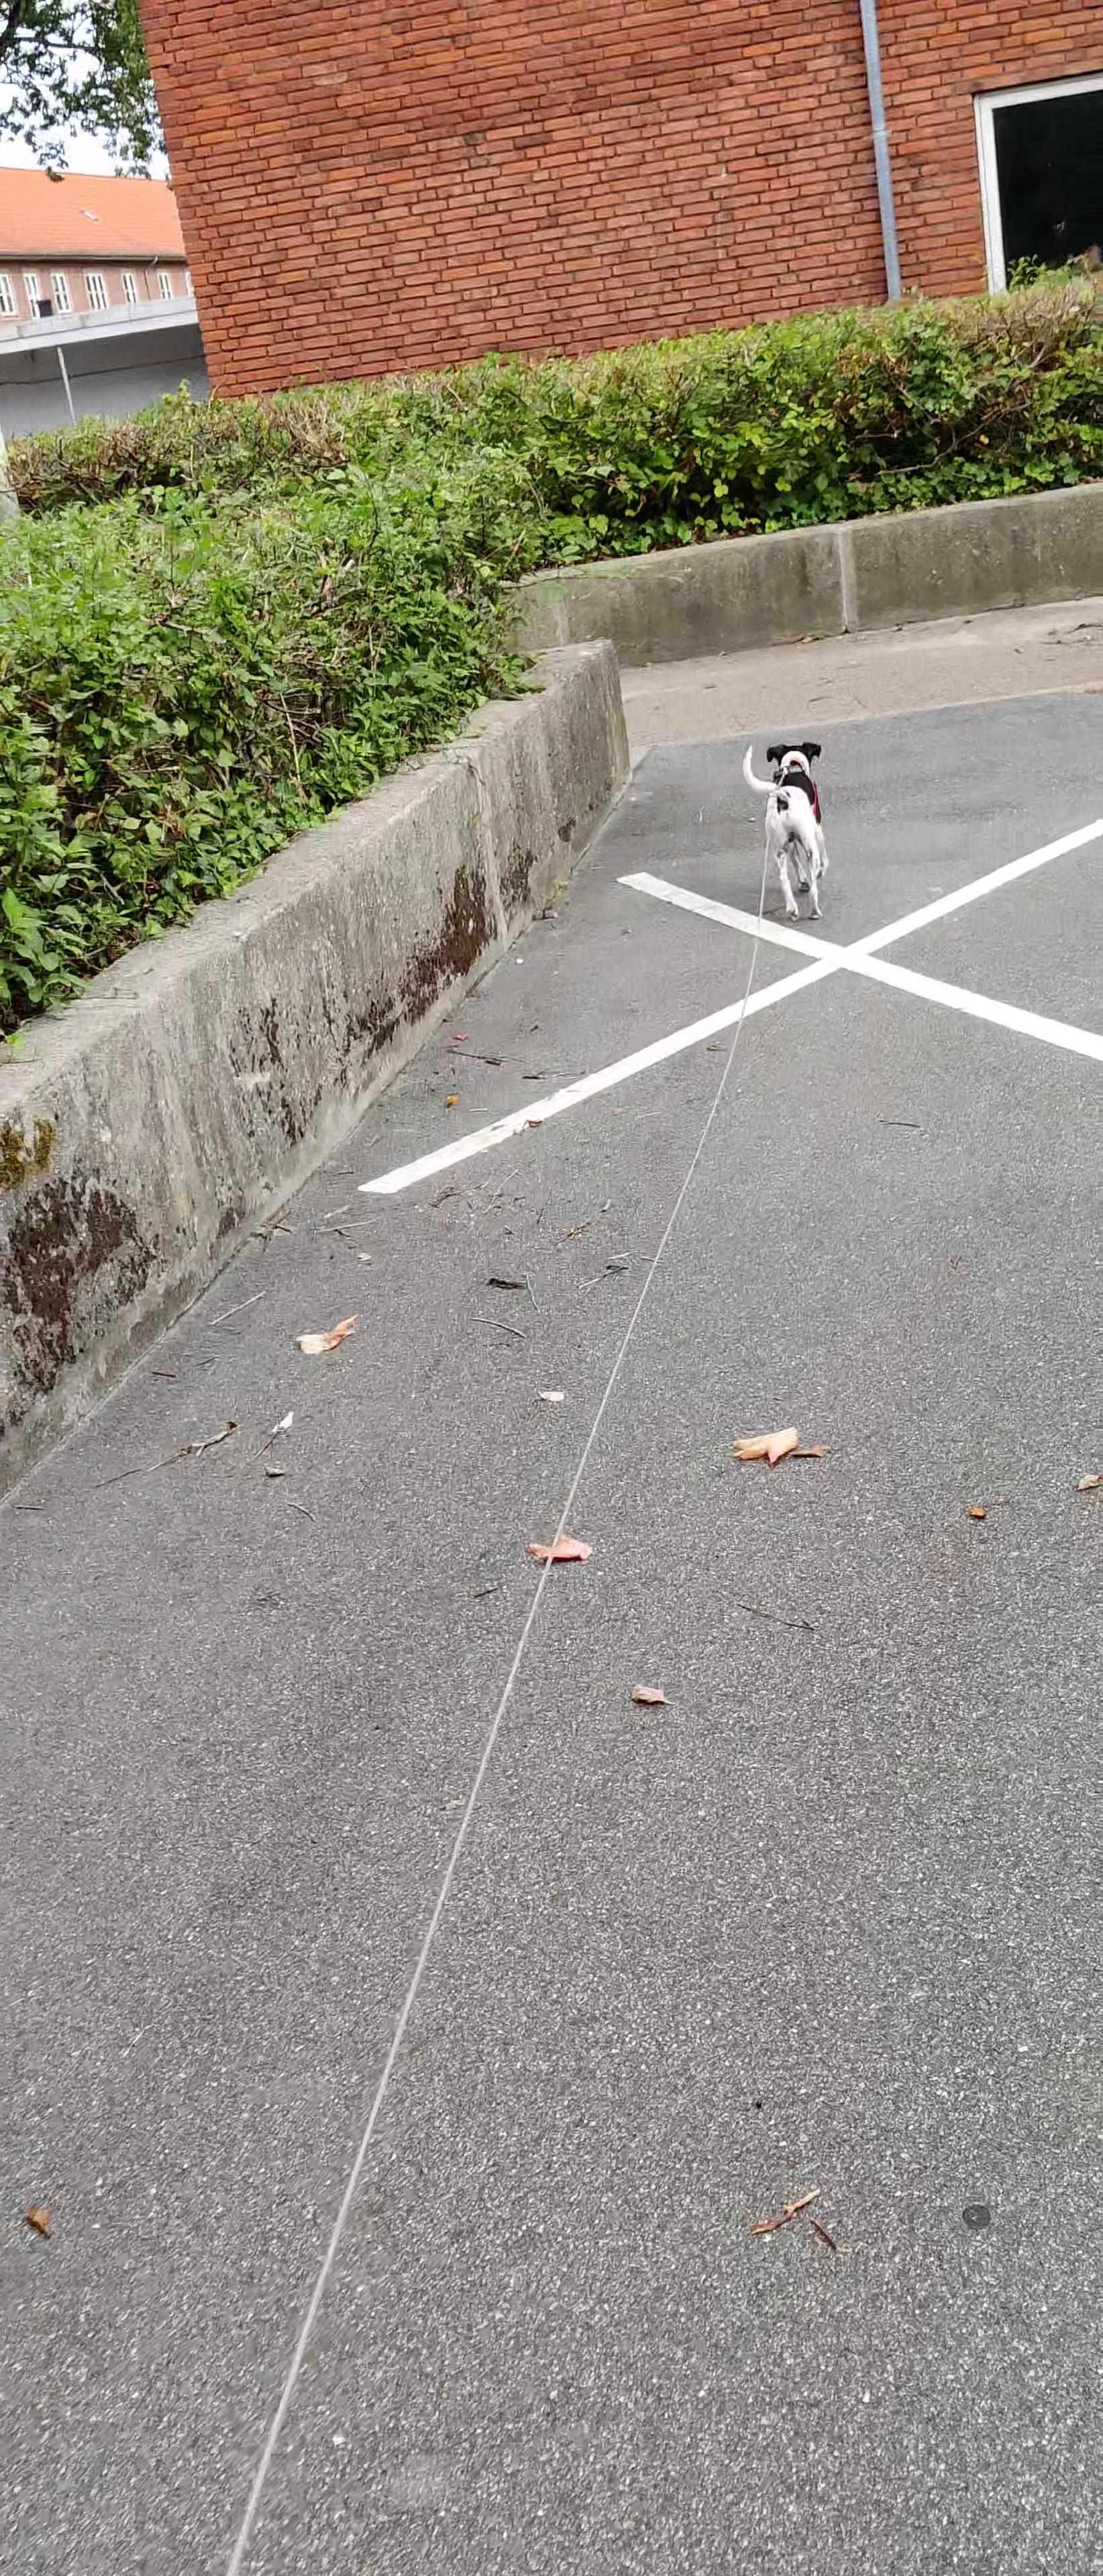Dog: (738, 739, 833, 925)
